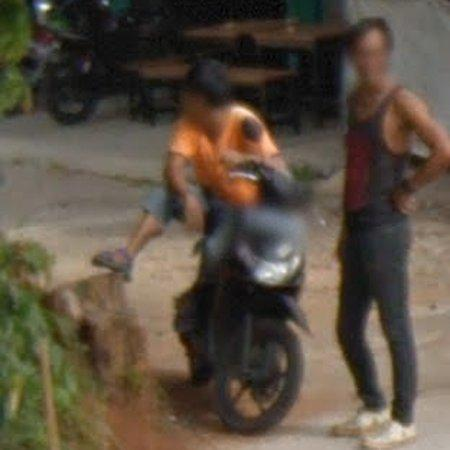motorcycles: (185, 208, 308, 432)
